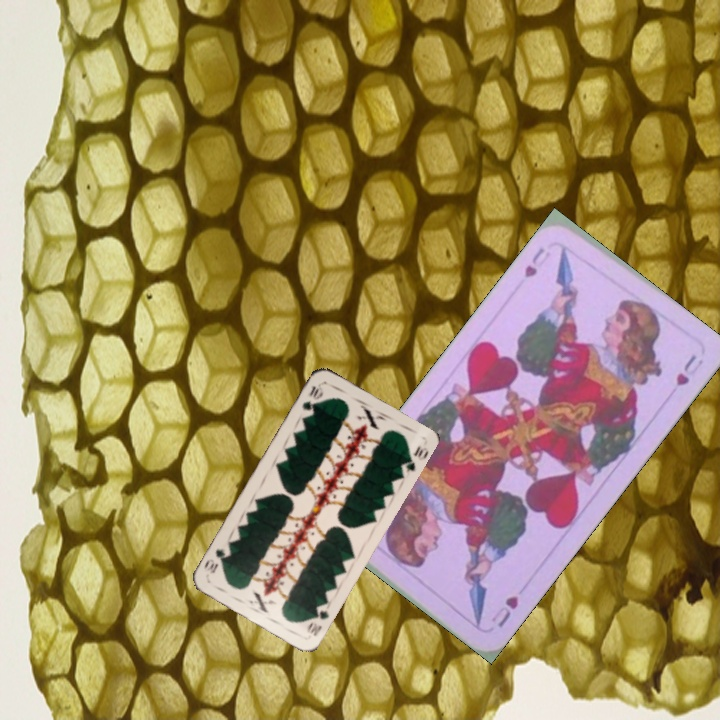G10: (303, 600, 332, 639), (298, 379, 326, 413)
HU: (487, 591, 521, 630), (520, 243, 547, 281)
